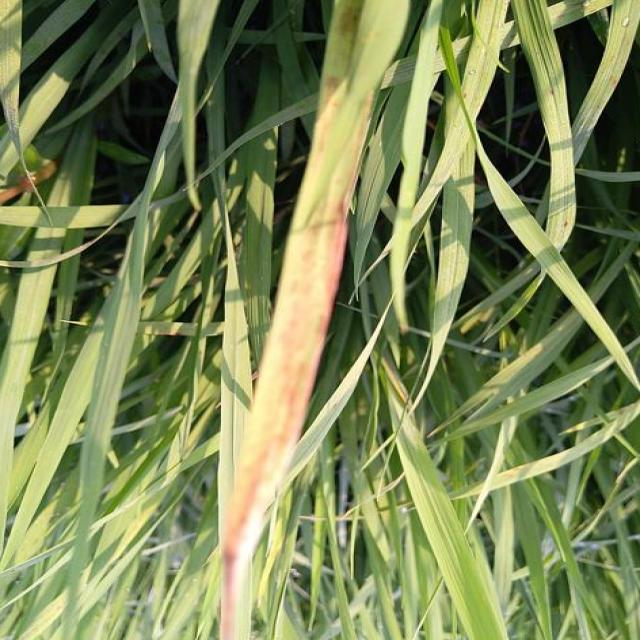Leaf Blight: (217, 0, 411, 640)
